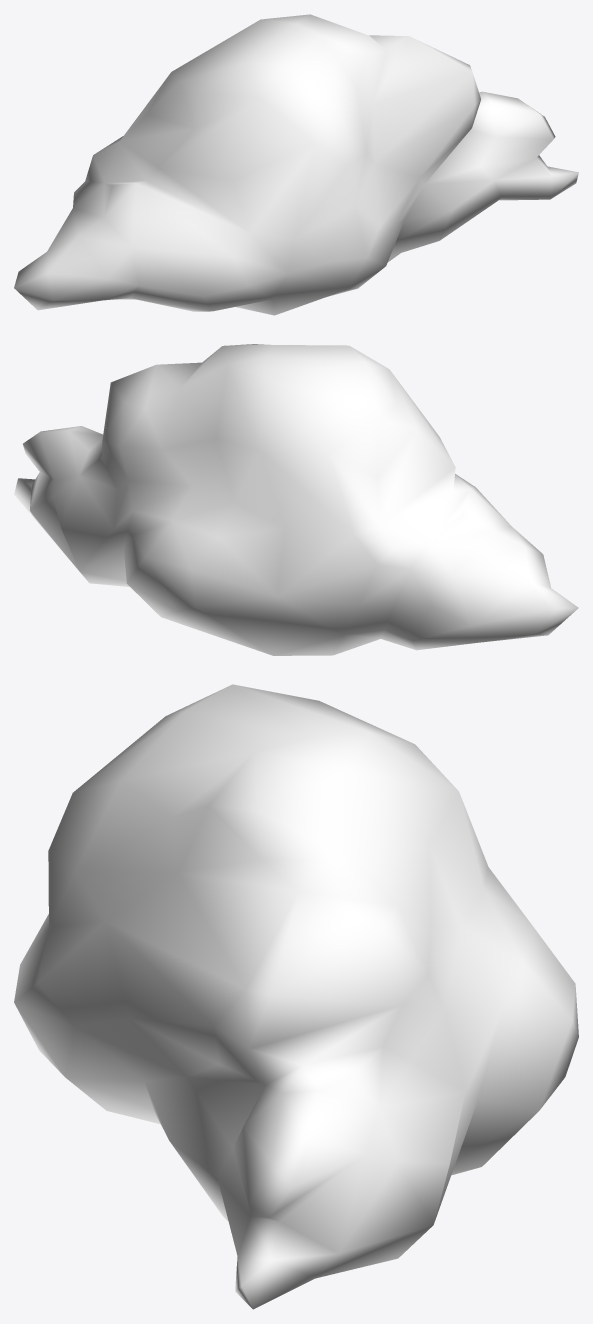
File: Cloud5.fbx
3 views of the same model, one above another, from view 1: azimuth 30°, elevation 25°; view 2: azimuth 150°, elevation 25°; view 3: azimuth 270°, elevation 25° (orthographic). The views are drawn at different scales.
Visible parts, largest first — view 1: Cloud5; view 2: Cloud5; view 3: Cloud5.
Part boxes in pixels (x1,y1,x2,y2): Cloud5: (14, 14, 578, 315); Cloud5: (14, 344, 578, 655); Cloud5: (14, 684, 578, 1309).
Bounding box in the file's own units: 835 × 371 × 436.
Materials: 1 (1 with a texture image).
